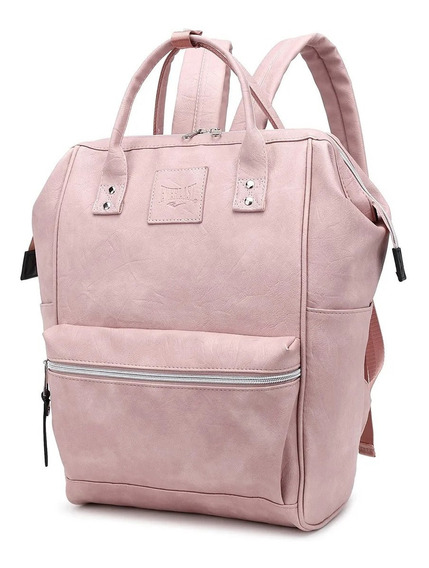cartera: (17, 23, 409, 535)
